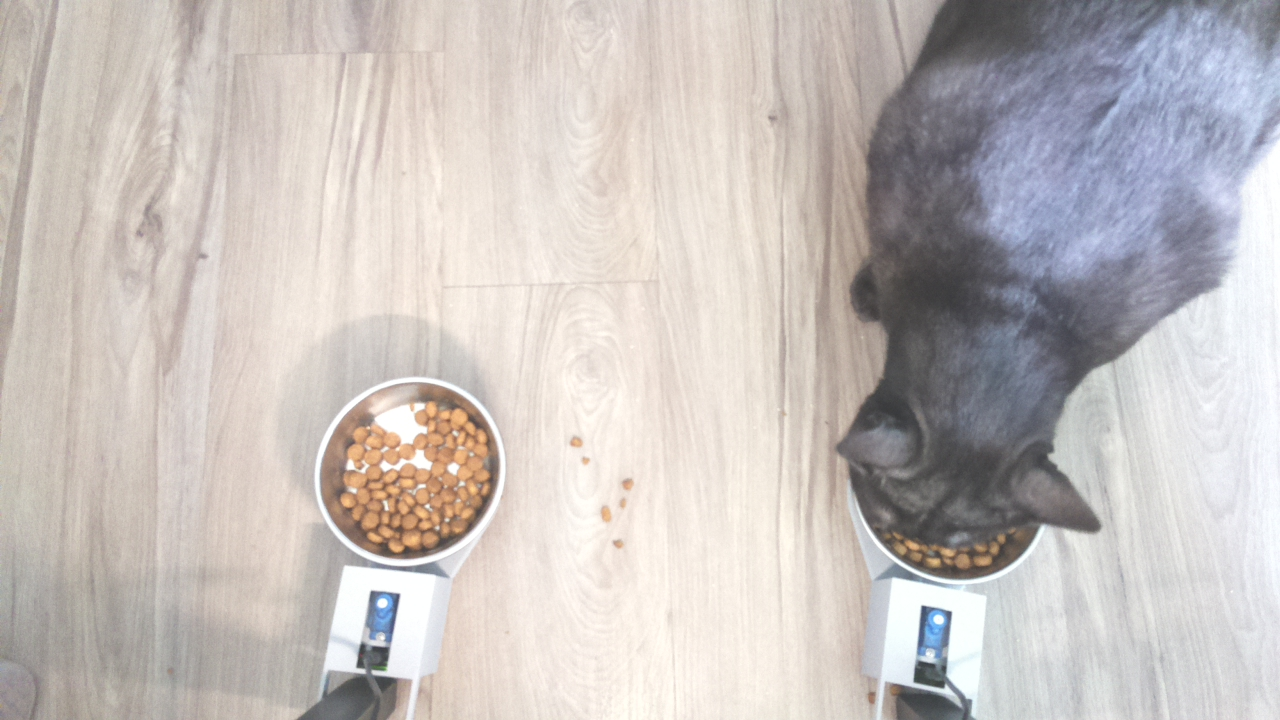open_bowl: (309, 371, 509, 571)
saki_eating: (828, 321, 1098, 590)
